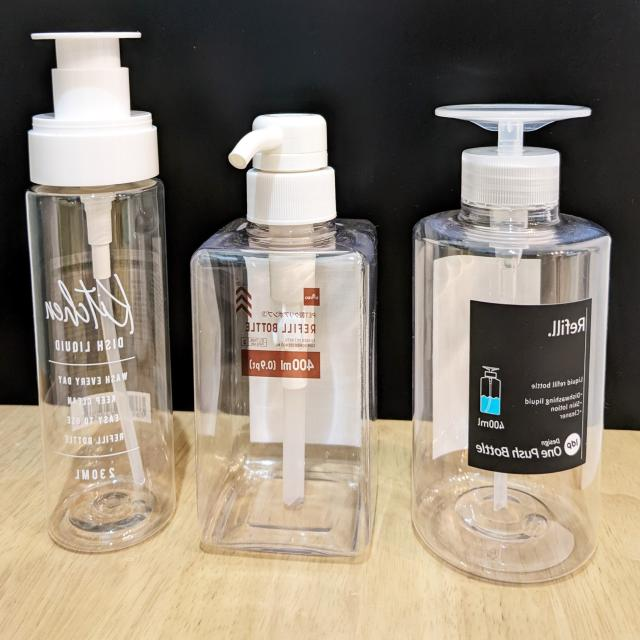plastic: (410, 101, 612, 586), (190, 110, 376, 556), (26, 29, 173, 555)
